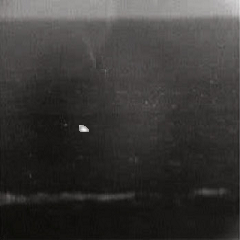Target: (77, 123, 90, 133)
